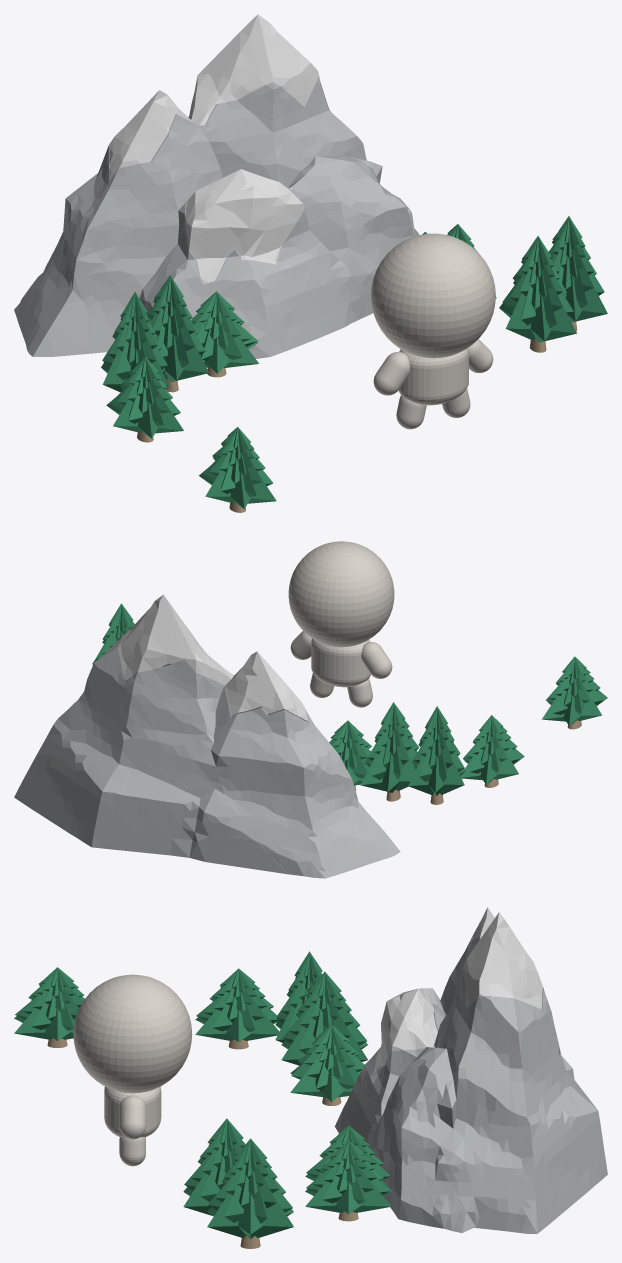
The model's file is Learning the Moves.glb.
The picture shows the model from 3 angles, top to bottom: view 1: azimuth 30°, elevation 25°; view 2: azimuth 150°, elevation 25°; view 3: azimuth 270°, elevation 25°; orthographic projection. The views are drawn at different scales.
Parts seen in each view (by area): view 1: Mesh_Mesh_head_geo.001_lambert2SG.001; view 2: Mesh_Mesh_head_geo.001_lambert2SG.001; view 3: Mesh_Mesh_head_geo.001_lambert2SG.001.
Boxes of the visible parts, box(x1,y1,x2,y2) form: Mesh_Mesh_head_geo.001_lambert2SG.001: box(14, 14, 607, 512); Mesh_Mesh_head_geo.001_lambert2SG.001: box(14, 541, 607, 878); Mesh_Mesh_head_geo.001_lambert2SG.001: box(14, 907, 607, 1248).
Bounding box in the file's own units: 184 × 93 × 200.
